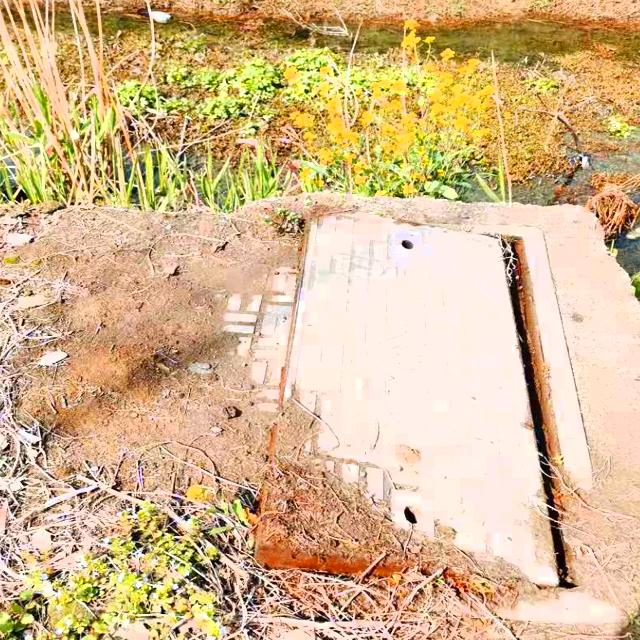uncovered: (206, 202, 623, 614)
